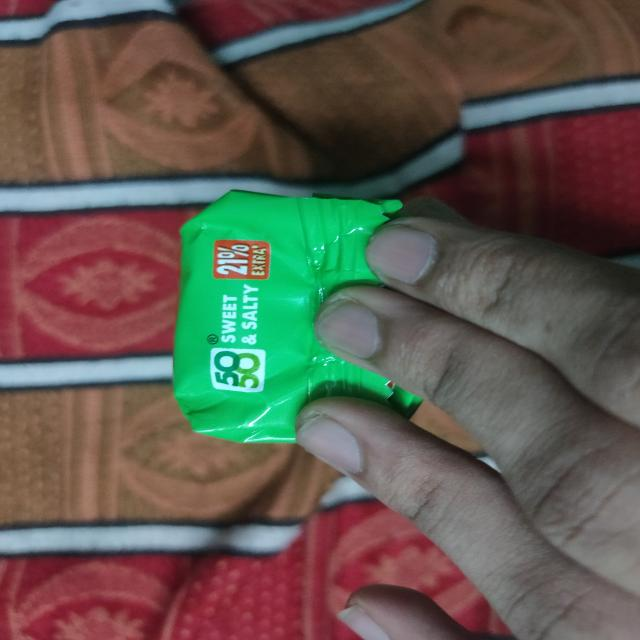biscuit: (161, 189, 454, 464)
